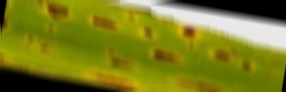Bacterial_Leaf_Blight: (30, 2, 75, 17), (169, 79, 230, 90), (81, 74, 136, 86), (149, 48, 184, 63), (175, 23, 203, 41), (101, 56, 137, 68), (84, 17, 117, 28), (139, 21, 158, 40), (207, 50, 230, 60), (104, 44, 119, 58), (240, 58, 256, 70), (40, 23, 58, 32), (126, 12, 138, 24), (3, 17, 13, 29), (24, 33, 37, 42), (38, 43, 50, 52), (5, 0, 12, 11), (0, 52, 5, 63)
